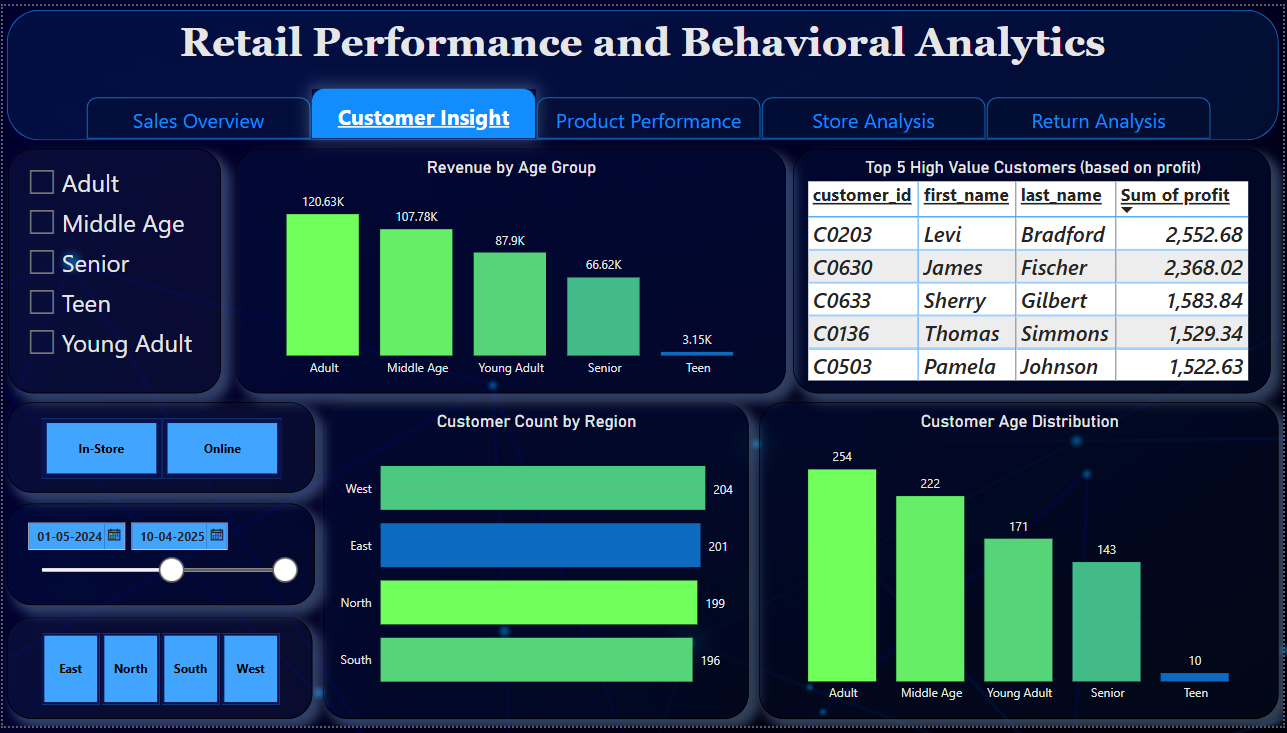

What the dashboard file says about the page in this screenshot:
{"tool":"powerbi","page":{"name":"2. Customer Insights Report","canvas":[1280,720],"ordinal":1},"visuals":[{"type":"clusteredBarChart","title":"Customer Count by Region  ","fields":{"Category":["customers_cleaned.region"],"Y":["Count(customers_cleaned.customer_id)"]},"box":[320.3,396.1,425.4,316.6],"z":0},{"type":"clusteredColumnChart","title":"Revenue by Age Group","fields":{"Category":["customers_cleaned.age_group"],"Y":["Sum(sales_cleaned.total_amount)"]},"box":[232.3,143,550.1,244.5],"z":1000},{"type":"tableEx","title":"Top 5 High Value Customers (based on profit)","fields":{"Values":["customers_cleaned.customer_id","customers_cleaned.first_name","customers_cleaned.last_name","Sum(sales_cleaned.profit)"]},"box":[789.7,143,478,244.5],"z":2000},{"type":"clusteredColumnChart","title":"Customer Age Distribution  ","fields":{"Category":["customers_cleaned.age_group"],"Y":["Count(customers_cleaned.customer_id)"]},"box":[756.7,396.1,519.5,316.6],"z":3000},{"type":"slicer","fields":{"Values":["customers_cleaned.age_group"]},"box":[4.9,143,212.7,244.5],"z":4000},{"type":"shape","box":[3.7,3.7,1272,130.8],"z":5000},{"type":"shape","box":[83.9,91.7,223.7,41.6],"z":6000},{"type":"shape","box":[309.3,83.1,223.7,50.1],"z":7000},{"type":"shape","box":[533.8,91.7,223.7,41.6],"z":8000},{"type":"shape","box":[758.9,91.7,223.7,41.6],"z":9000},{"type":"shape","box":[983.8,91.7,223.7,41.6],"z":10000},{"type":"slicer","fields":{"Values":["customers_cleaned.region"]},"box":[3.7,611.2,305.6,101.5],"z":11000},{"type":"slicer","fields":{"Values":["sales_cleaned.sales_channel"]},"box":[3.7,396.1,308,90.5],"z":12000},{"type":"slicer","fields":{"Values":["sales_cleaned.order_date"]},"box":[3.7,497.5,308,101.5],"z":13000}]}

Visuals, with their boxes in screenshot pixels (x1, y1, x2, y2), scaled from the page's 1280x720 canvas onto the 1287x733 screenshot:
"Customer Count by Region  " clusteredBarChart: (322, 403, 750, 726)
"Revenue by Age Group" clusteredColumnChart: (234, 146, 787, 394)
"Top 5 High Value Customers (based on profit)" tableEx: (794, 146, 1275, 394)
"Customer Age Distribution  " clusteredColumnChart: (761, 403, 1283, 726)
slicer - customers_cleaned.age_group: (5, 146, 219, 394)
shape: (4, 4, 1283, 137)
shape: (84, 93, 309, 136)
shape: (311, 85, 536, 136)
shape: (537, 93, 762, 136)
shape: (763, 93, 988, 136)
shape: (989, 93, 1214, 136)
slicer - customers_cleaned.region: (4, 622, 311, 726)
slicer - sales_cleaned.sales_channel: (4, 403, 313, 495)
slicer - sales_cleaned.order_date: (4, 506, 313, 610)
